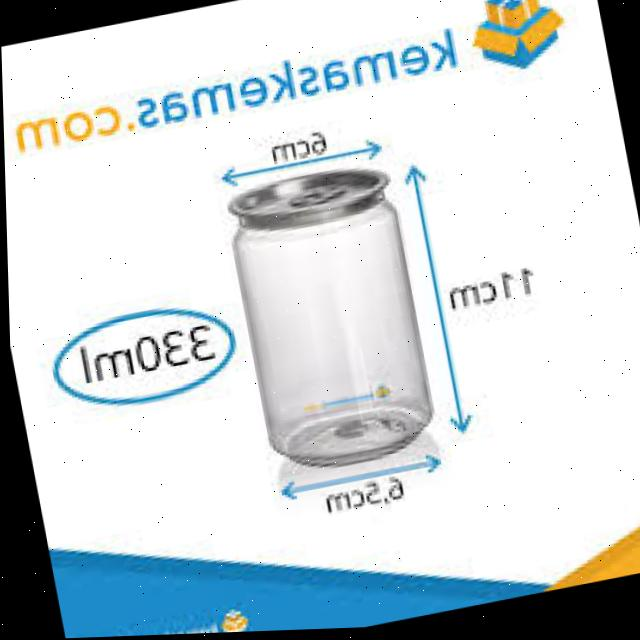Dry: (179, 123, 462, 514)
